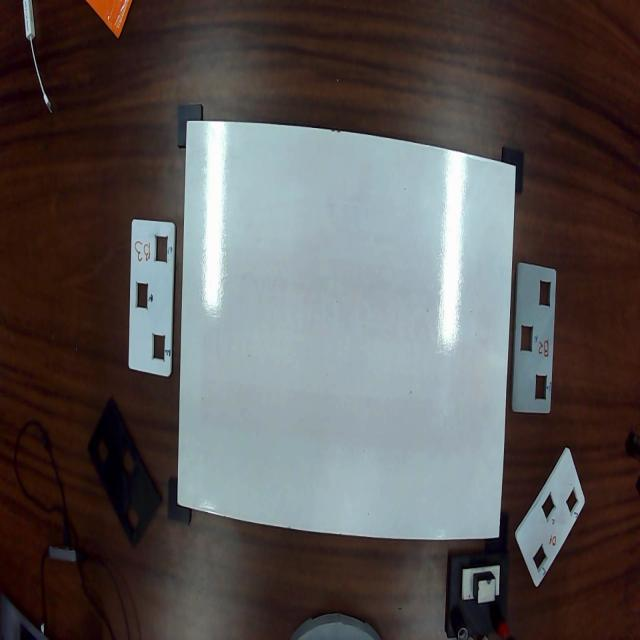default_frame: (178, 118, 513, 538)
